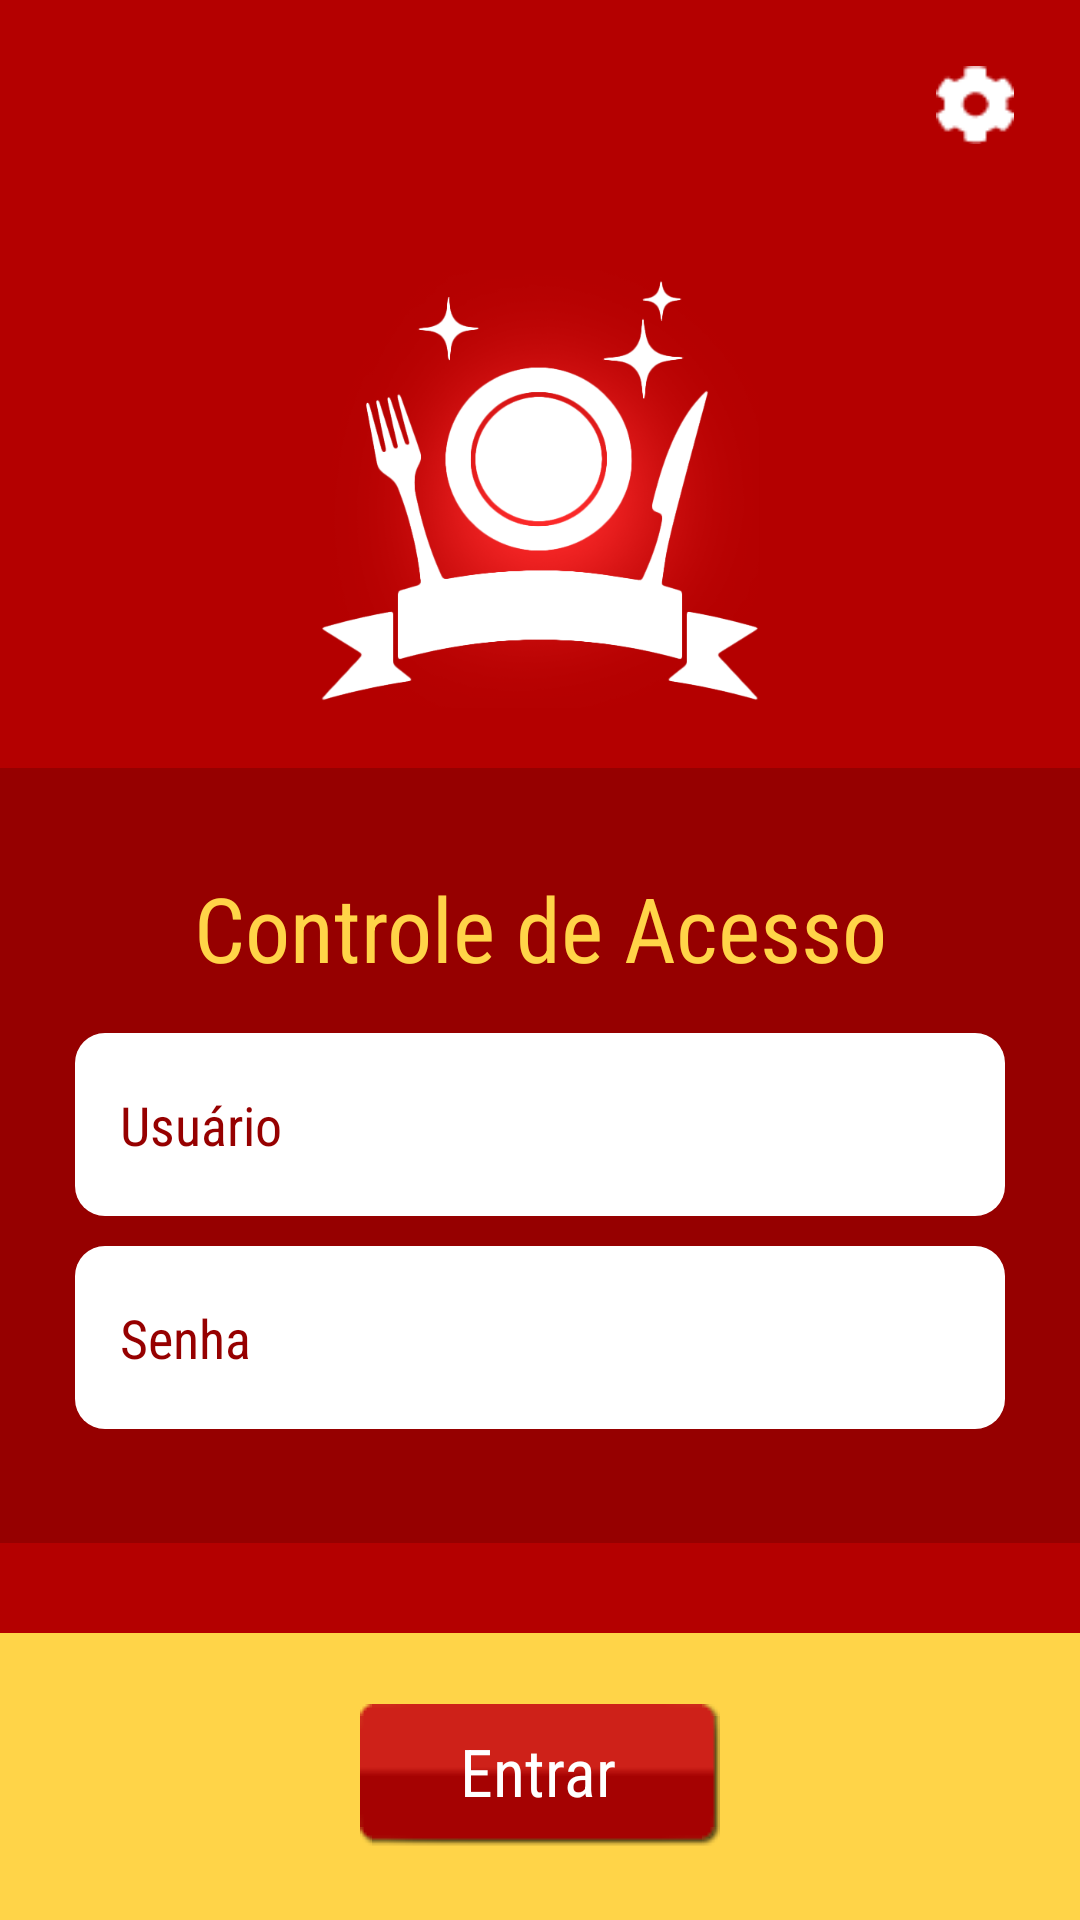

Icons on this 1080*1920 Android screen, each with its box as (x1, y1, x2, y2):
settings: (936, 66, 1014, 144)
